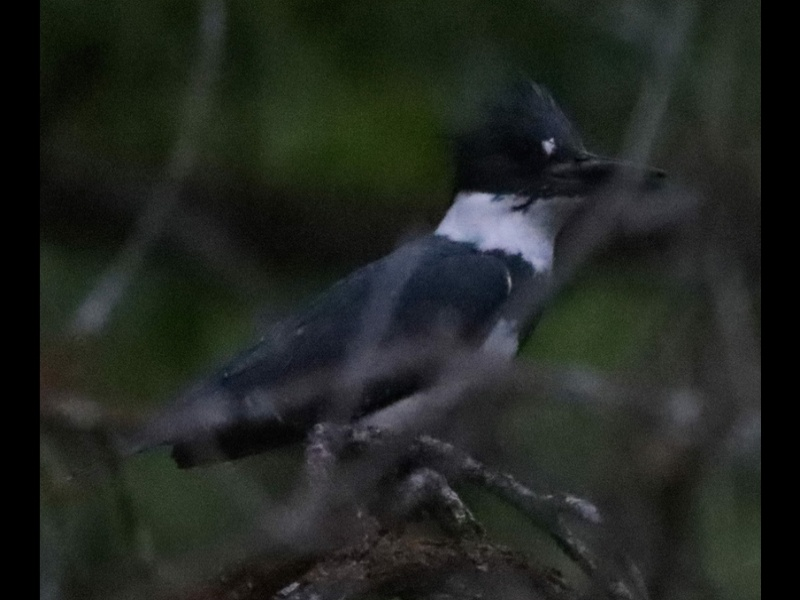kingfisher: (128, 76, 672, 495)
